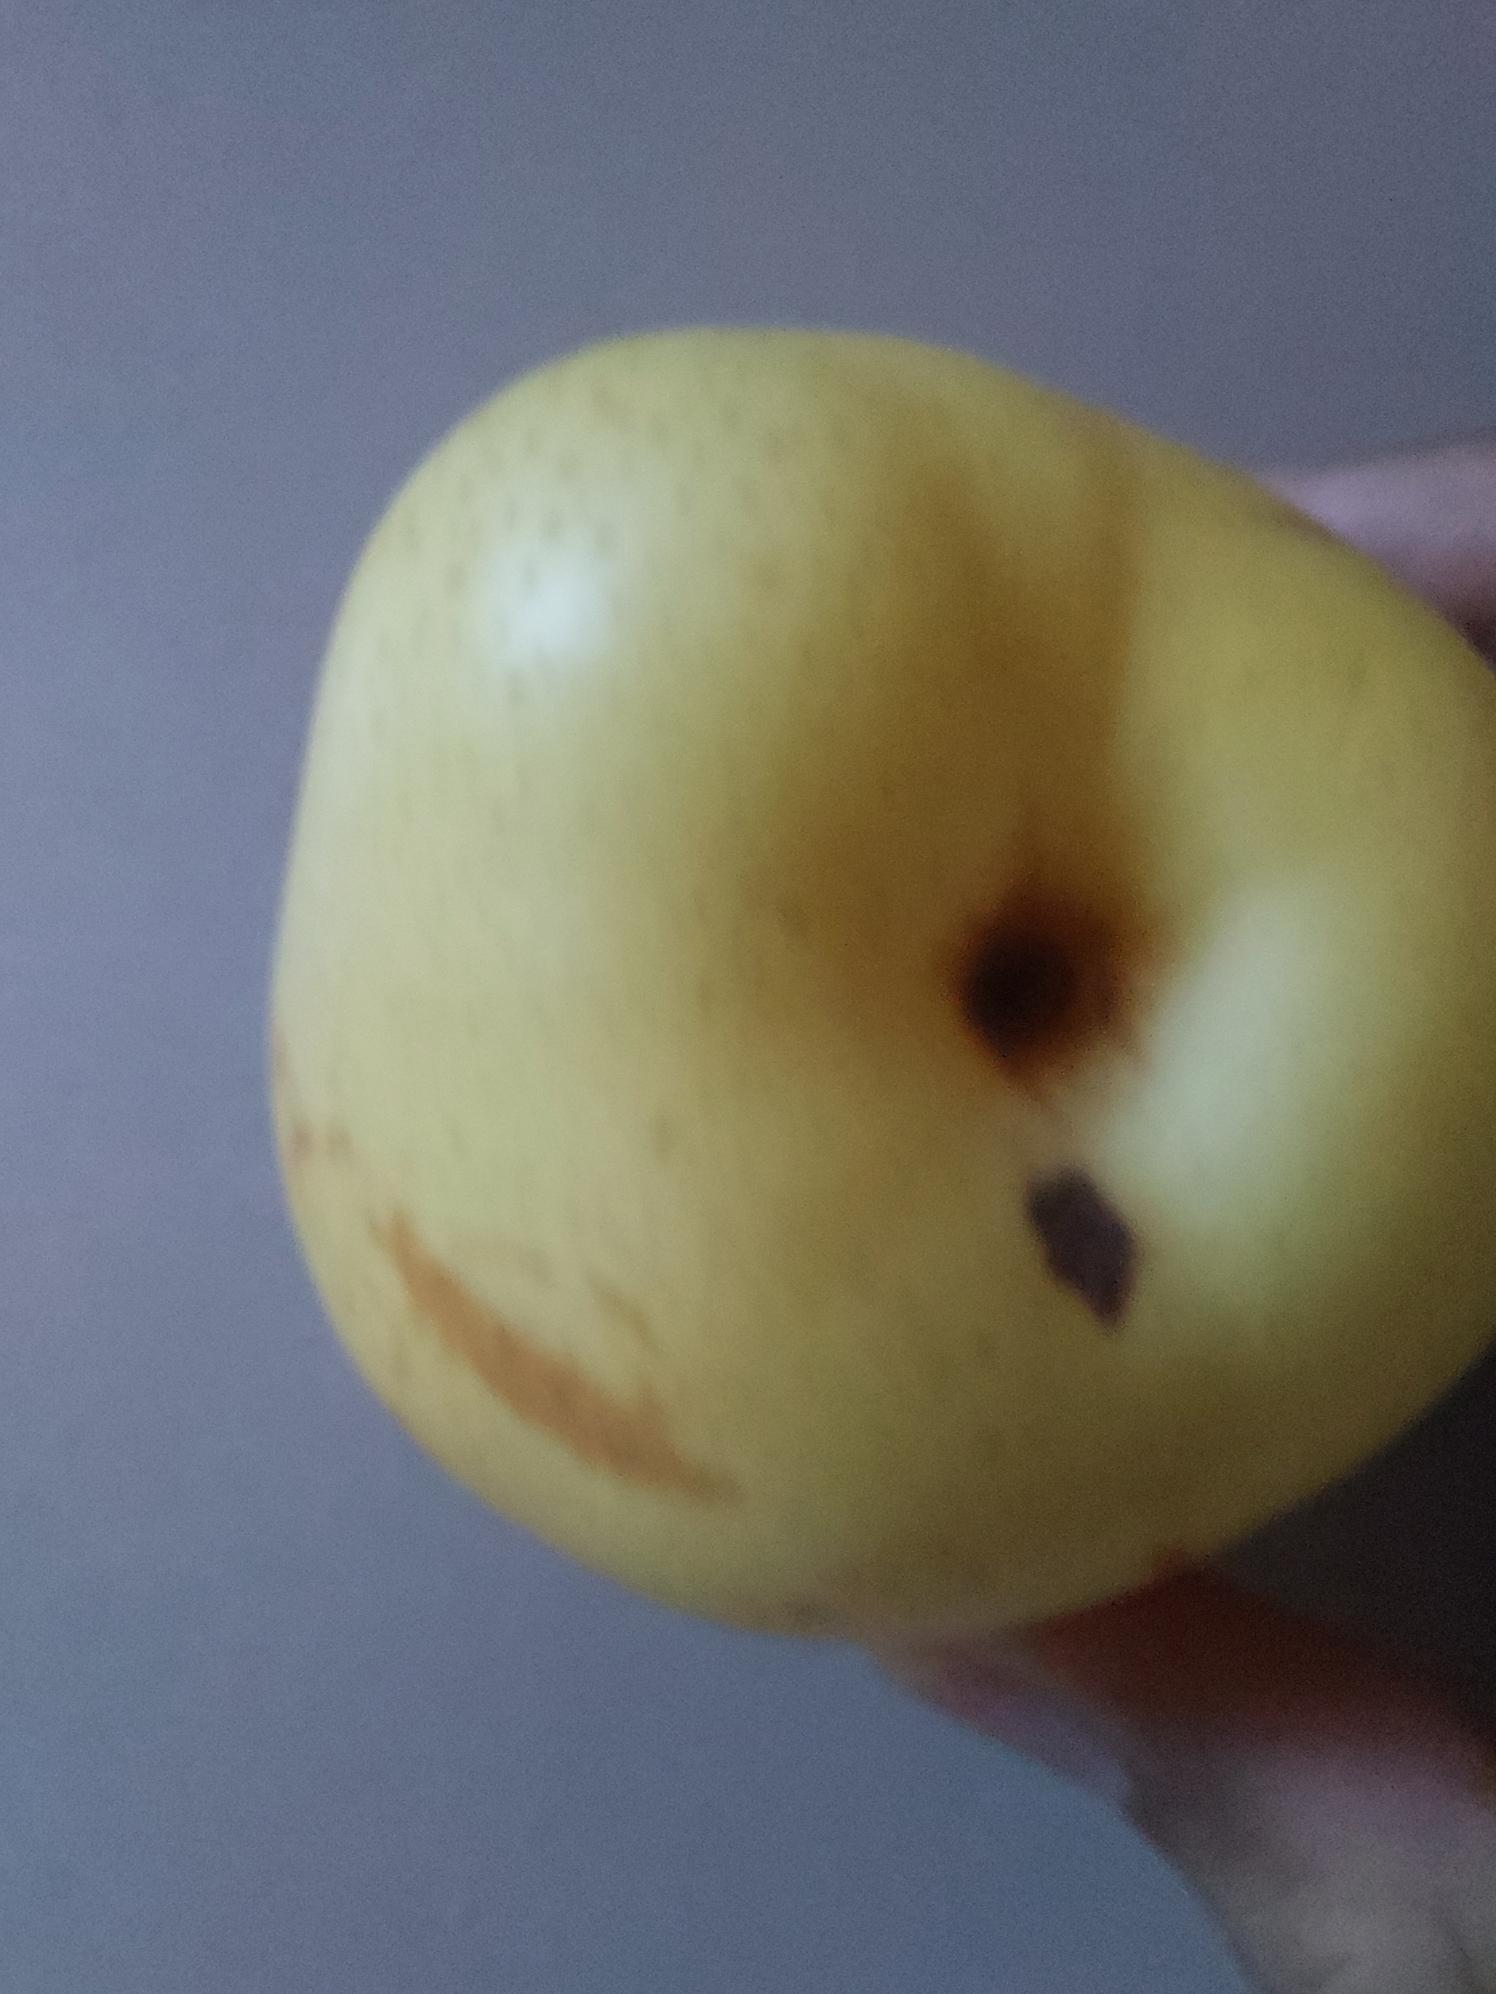Good Pear: (269, 317, 1496, 1664)
